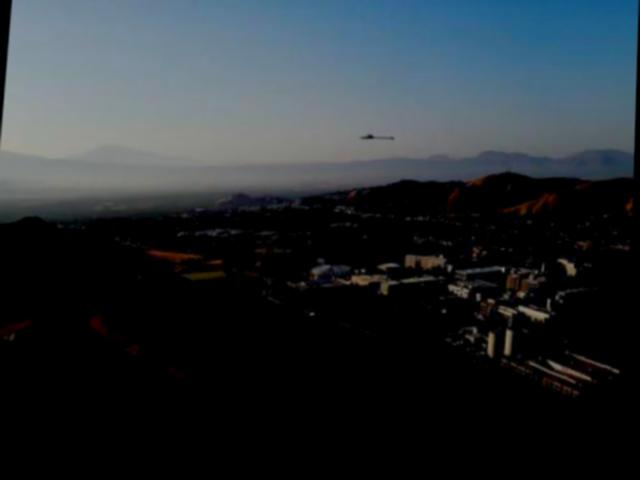iha: (358, 133, 397, 150)
